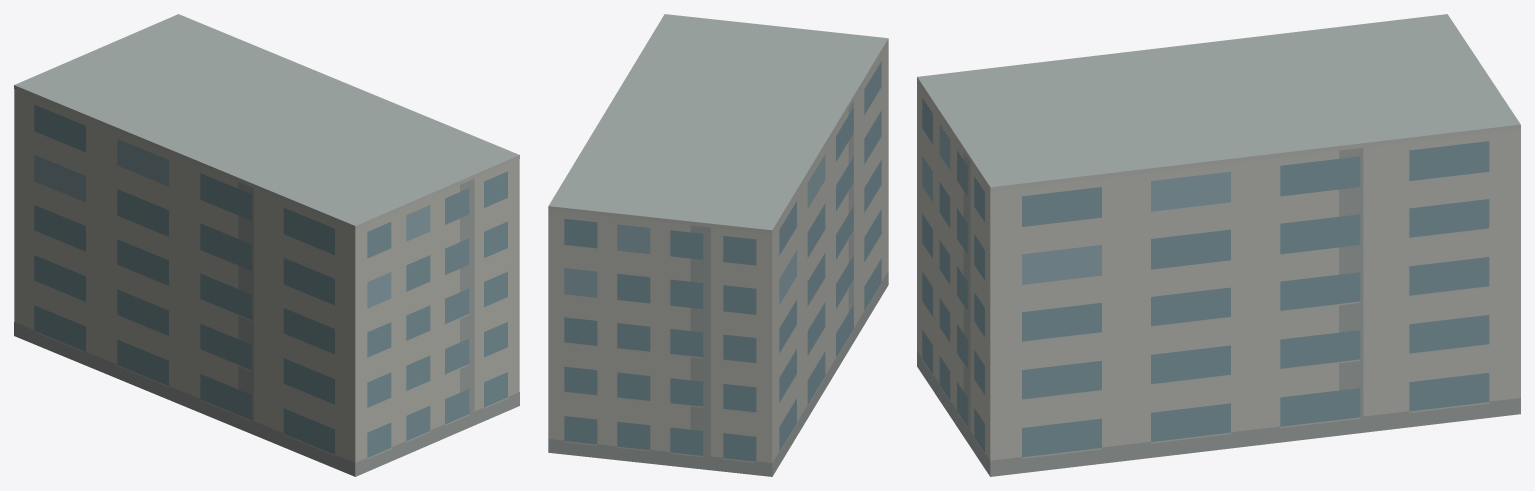
The model's file is residential-ef6de654-3573-4509-9b54-bf44e7fb9141.glb.
3 views of the same model, side by side, from view 1: azimuth 30°, elevation 25°; view 2: azimuth 150°, elevation 25°; view 3: azimuth 270°, elevation 25° (orthographic). The views are drawn at different scales.
Parts seen in each view (by area): view 1: residential-ef6de654-3573-4509-9b54-bf44e7fb9141.tmp; view 2: residential-ef6de654-3573-4509-9b54-bf44e7fb9141.tmp; view 3: residential-ef6de654-3573-4509-9b54-bf44e7fb9141.tmp.
Part boxes in pixels (x1,y1,x2,y2): residential-ef6de654-3573-4509-9b54-bf44e7fb9141.tmp: (14,14,519,476); residential-ef6de654-3573-4509-9b54-bf44e7fb9141.tmp: (548,14,888,476); residential-ef6de654-3573-4509-9b54-bf44e7fb9141.tmp: (917,14,1520,476).
Size of the model in its own units: 19.58 by 15.25 by 28.82.
